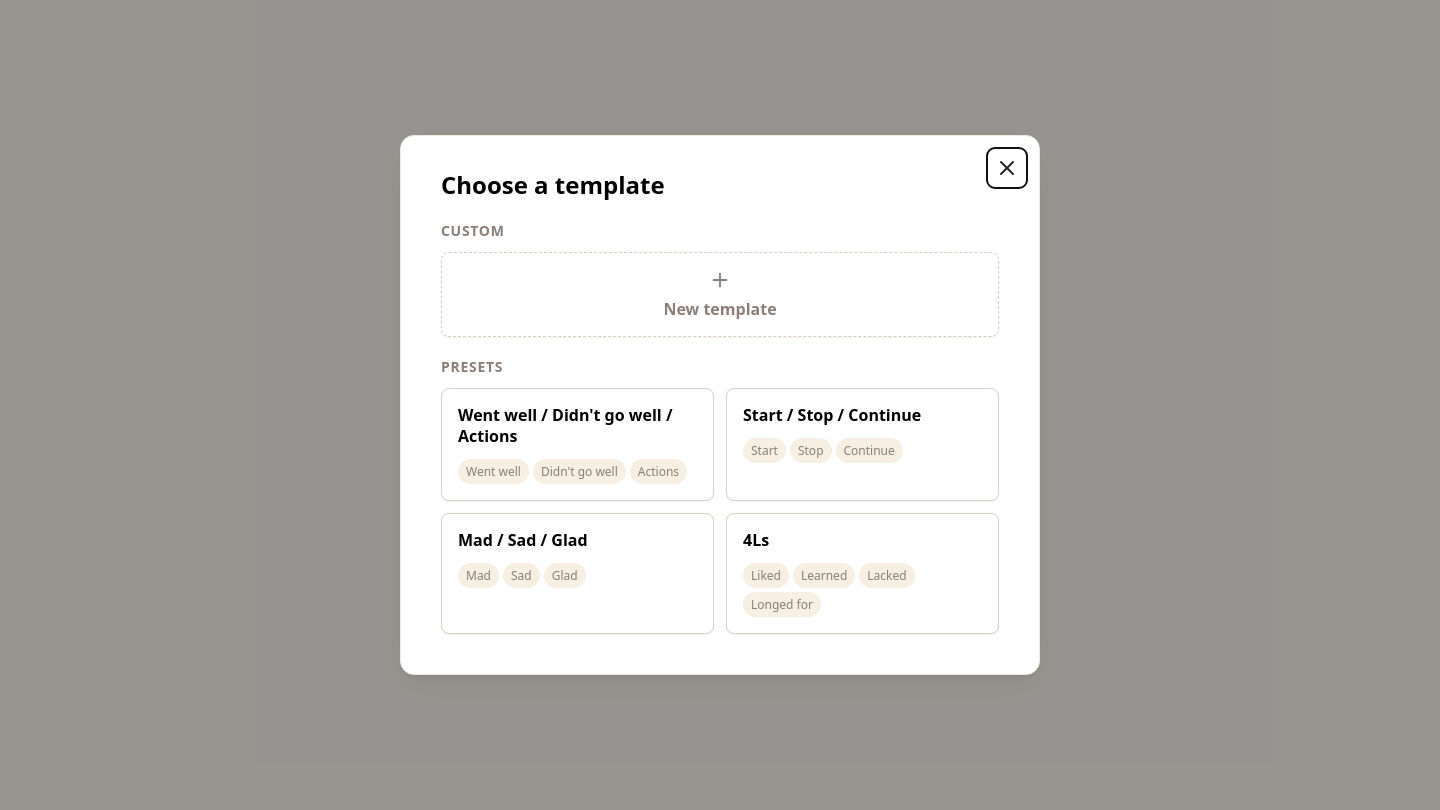
Test: TemplatePickerModal › "Create new template" reveals the column editor
The image size is (1440, 810).
Click the button with aria-label "create new template": (720, 309) [441, 252, 999, 337]
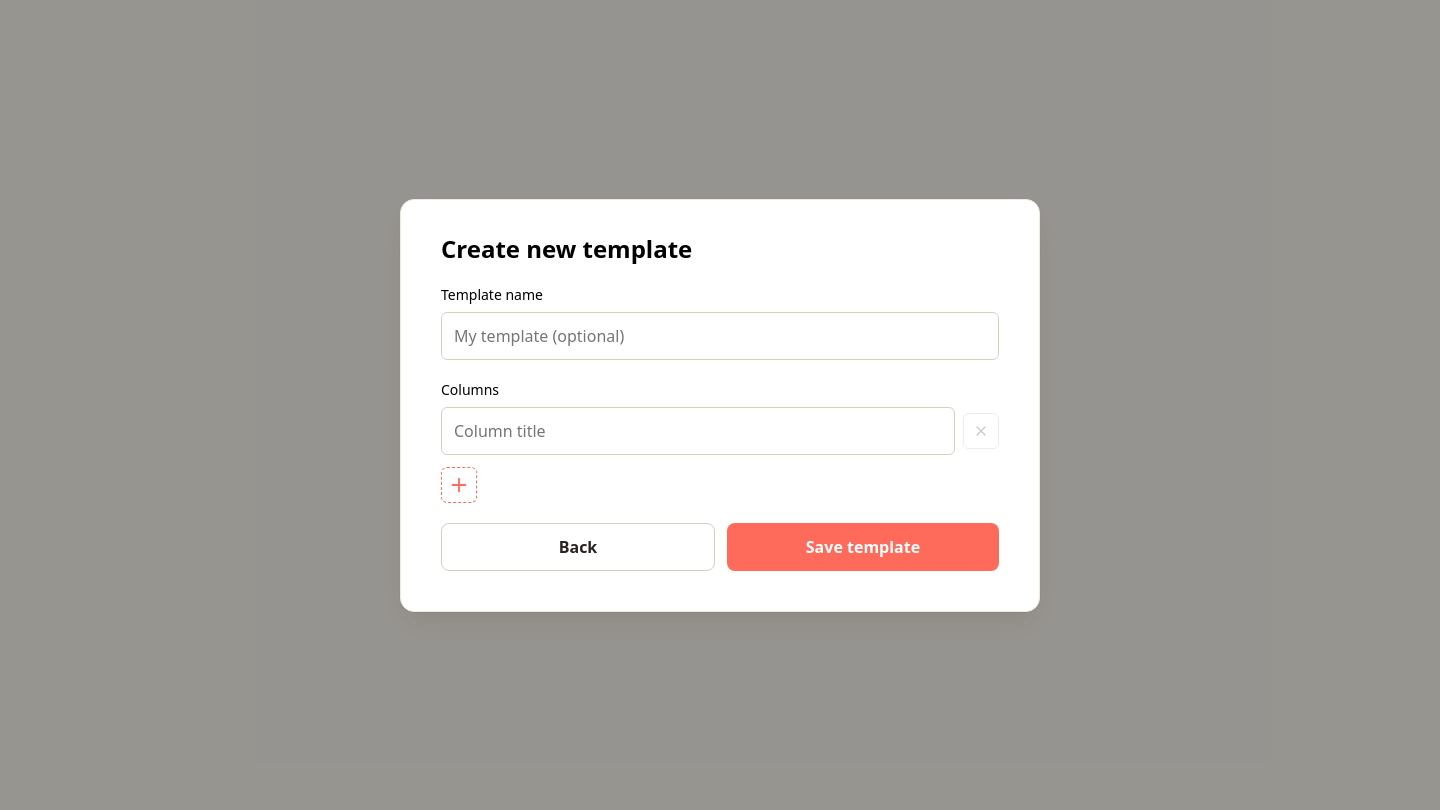
expect the field labelled "Template name" is shown: met, box [441, 312, 999, 360]
expect the field named "column 1 title" is shown: met, box [441, 406, 955, 454]
